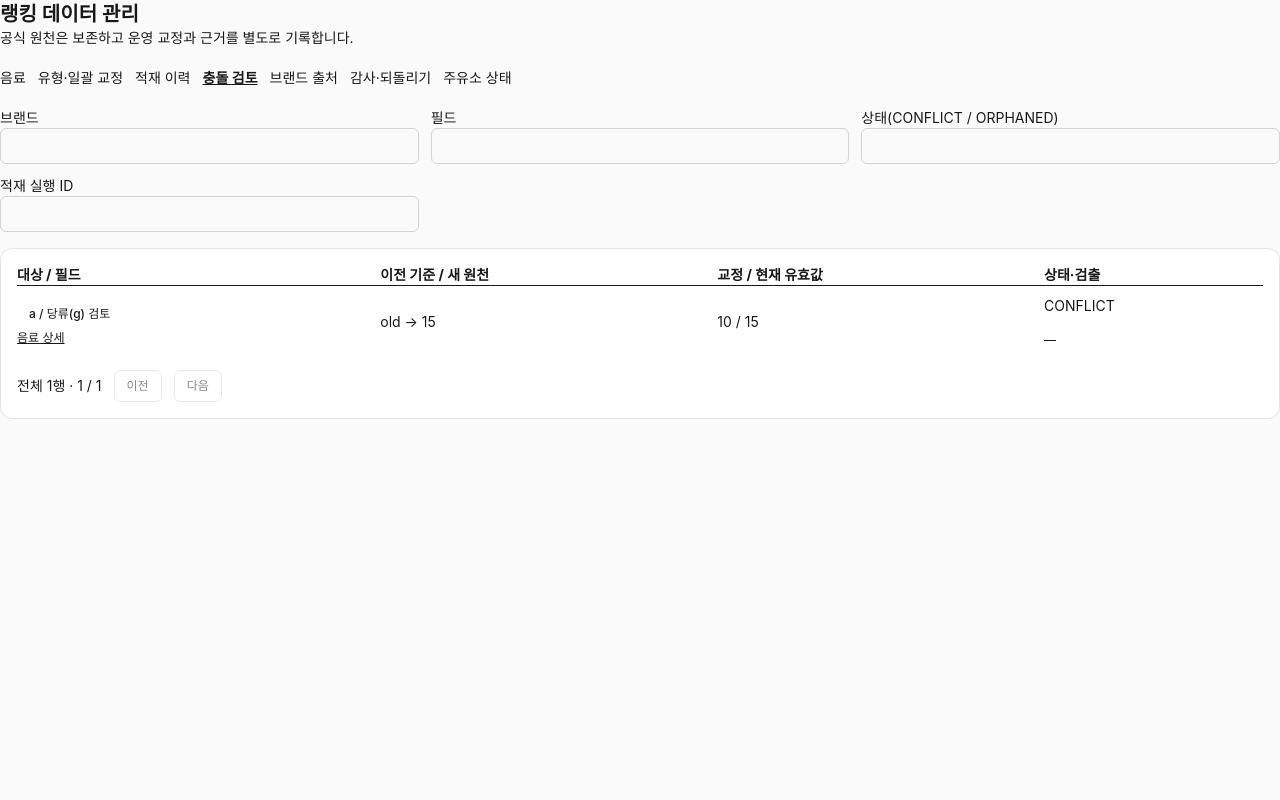
Test: round 1 reviewed UI contracts › F16 later403 clears cached conflict details, original evidence and resolution draft
Click the button "a / 당류(g) 검토".
click(70, 314)  # box [17,298,122,330]
(page scrolled)
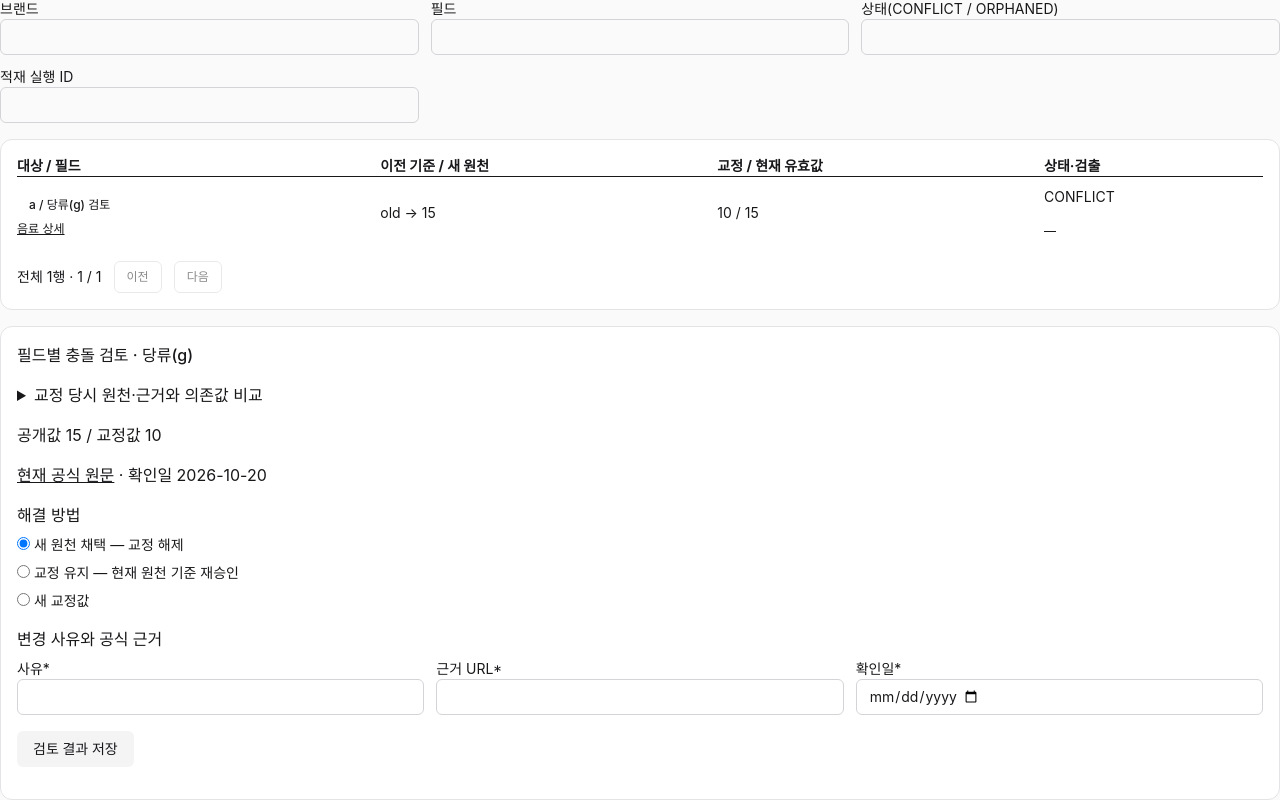
Type "공식 대조" into the field labelled "사유*".
click(221, 697); type("공식 대조")  # box [17,679,424,715]
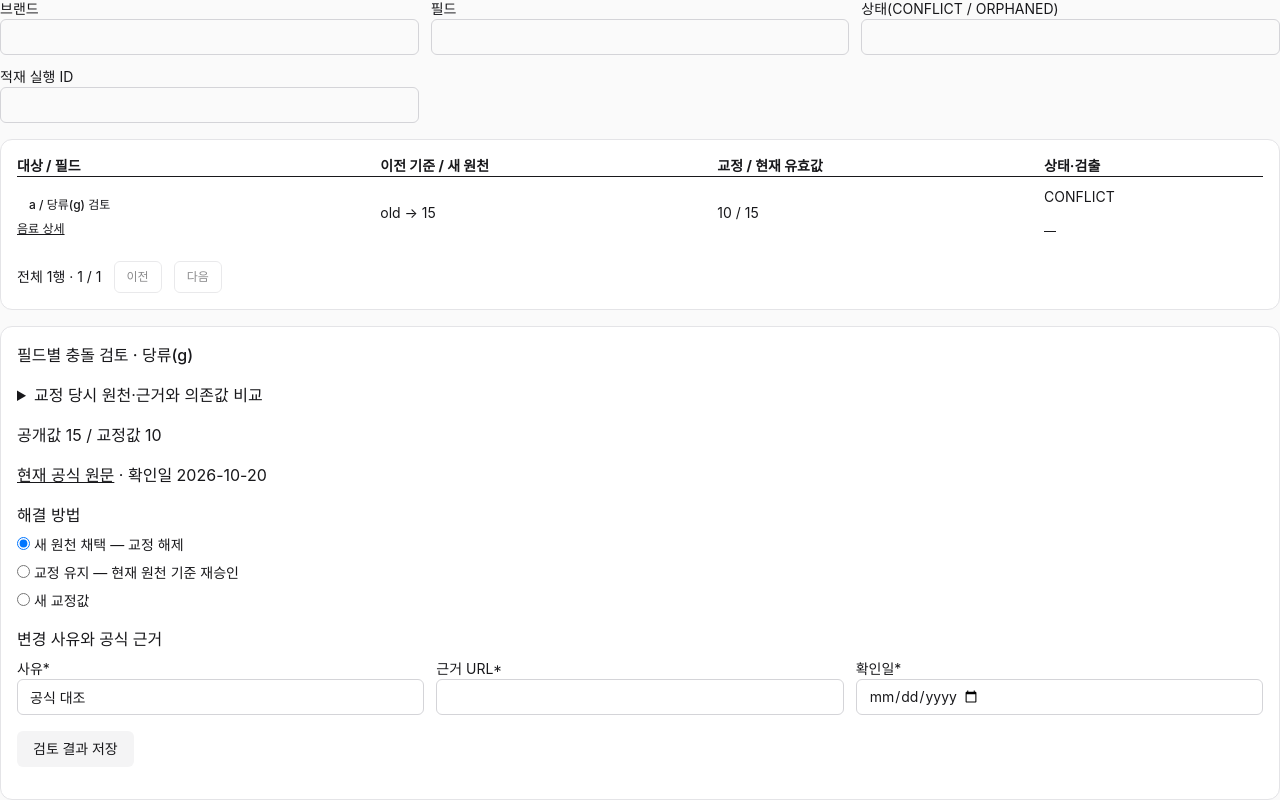
Type "https://official.example/menu" into the field labelled "근거 URL*".
click(640, 697); type("https://official.example/menu")  # box [436,679,844,715]
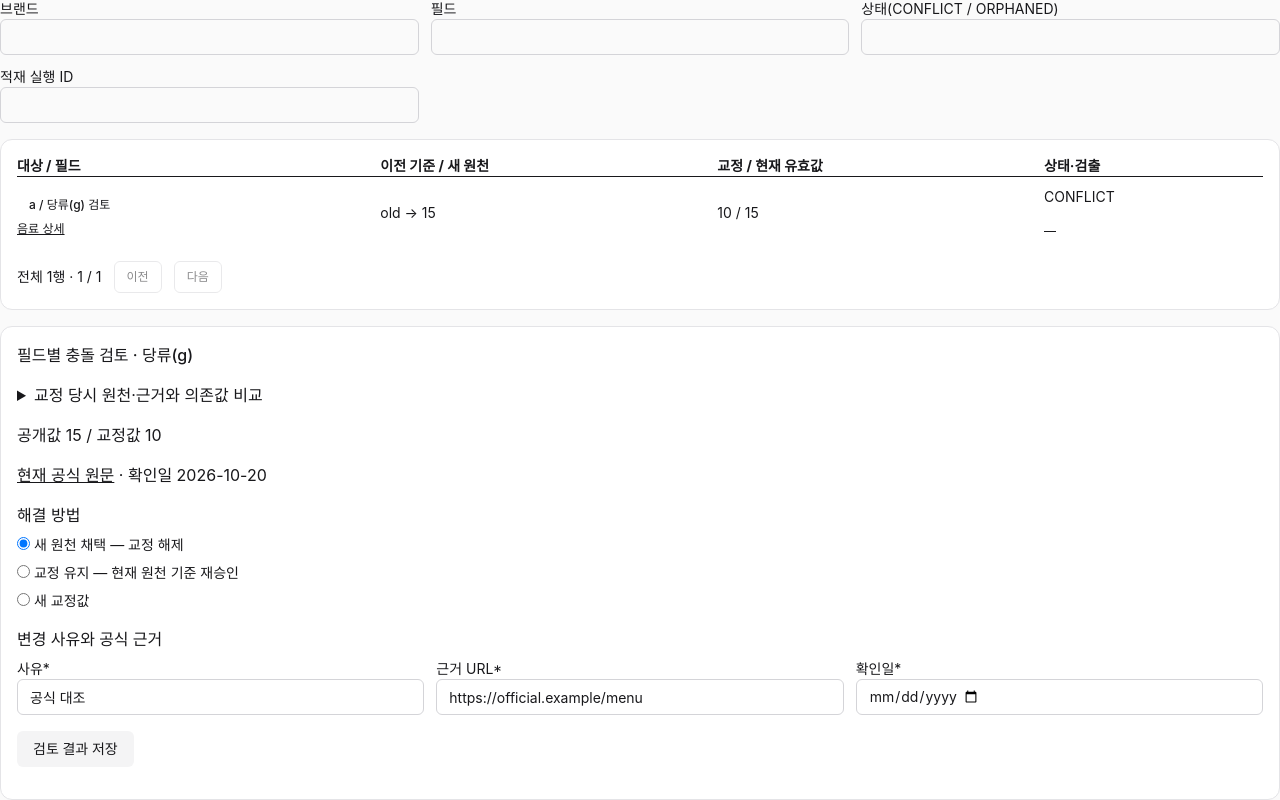
Type "2026-10-20" into the date field labelled "확인일*".
click(1059, 697); type("2026-10-20")  # box [856,679,1263,715]
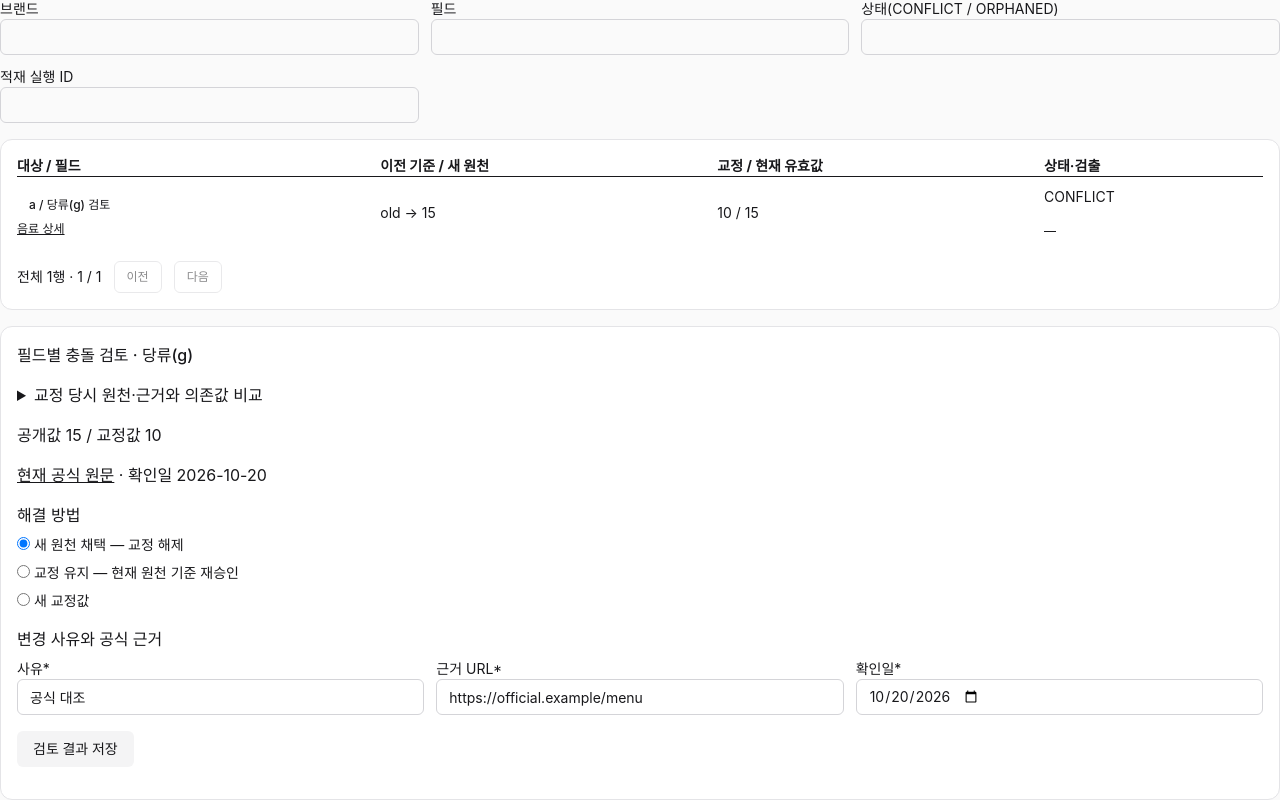
Click the button "검토 결과 저장".
click(75, 749)  # box [17,731,134,767]
(page scrolled)
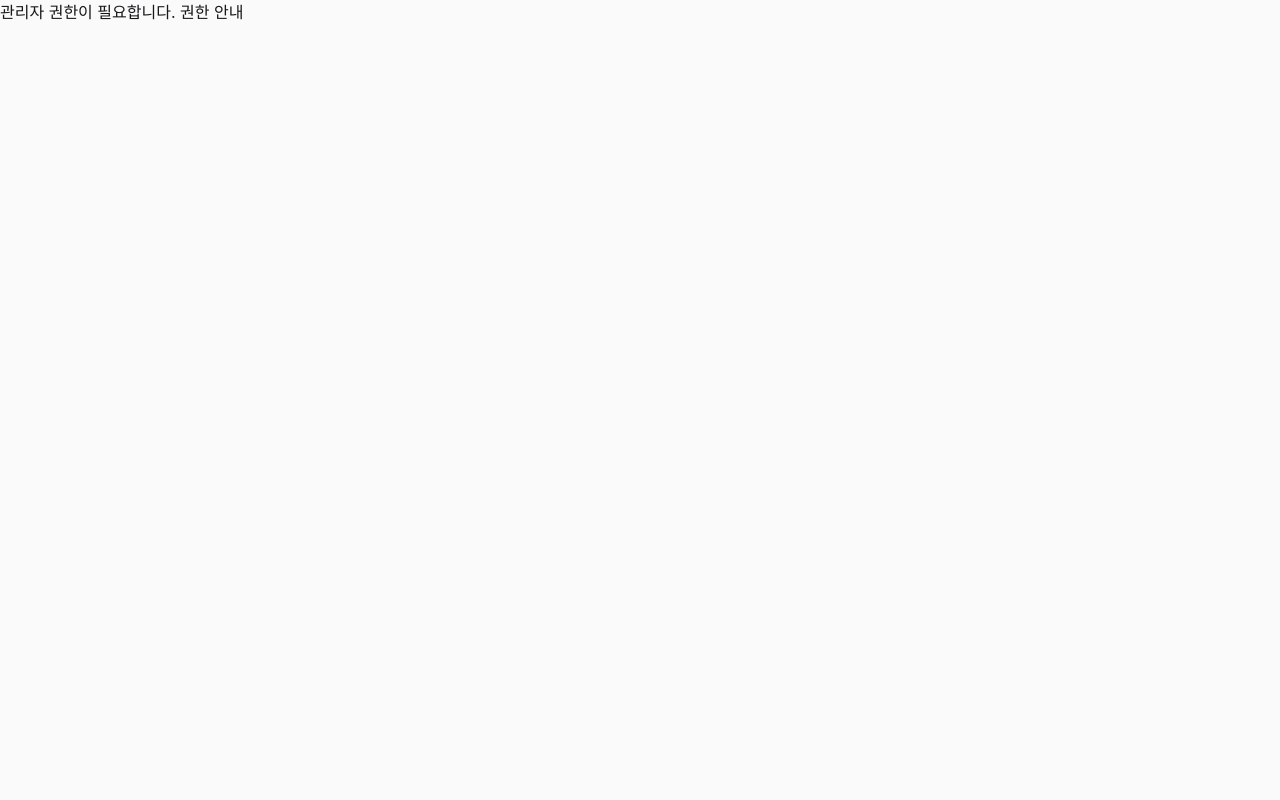
Expected: the text "관리자 권한이 필요합니다. 권한 안내" is shown, [0,2,243,22]
Expected: the text labelled "사유*" is gone
